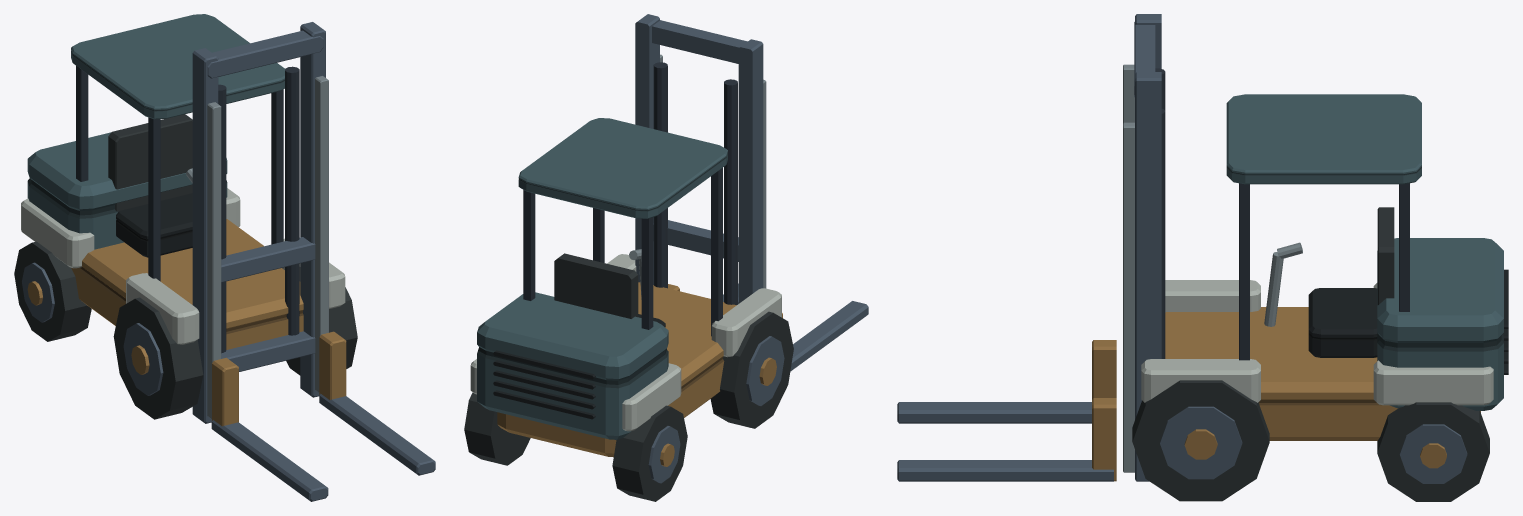
Rendered from HM-01_fork_truck.glb.
3 renders of one model, left to right at view 1: azimuth 30°, elevation 25°; view 2: azimuth 150°, elevation 25°; view 3: azimuth 270°, elevation 25°, orthographic. The views are drawn at different scales.
Parts seen in each view (by area): view 1: HM-01_fork_truck; view 2: HM-01_fork_truck; view 3: HM-01_fork_truck.
Boxes of the visible parts, x1=… form: HM-01_fork_truck: x1=14, y1=14, x2=435, y2=501; HM-01_fork_truck: x1=464, y1=14, x2=868, y2=501; HM-01_fork_truck: x1=897, y1=14, x2=1508, y2=501.
Bounding box in the file's own units: 1.41 × 2.55 × 3.47.
